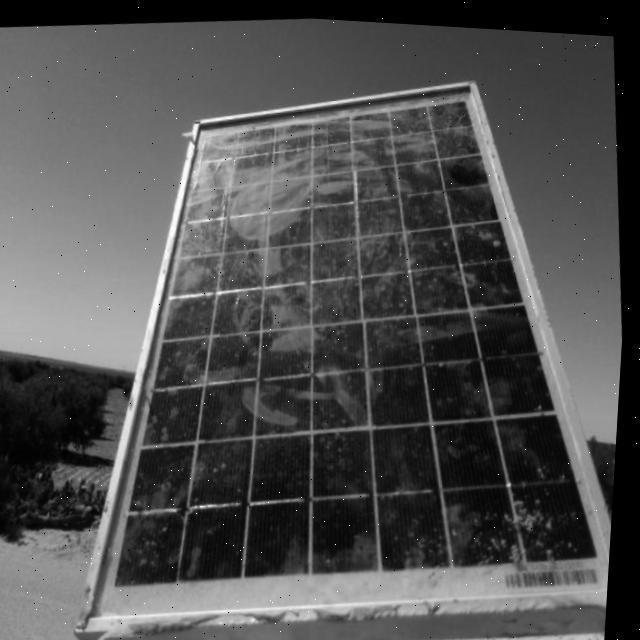Anomaly Solar Panel: (118, 85, 613, 593)
Surface Contaminant: (73, 56, 630, 638)
